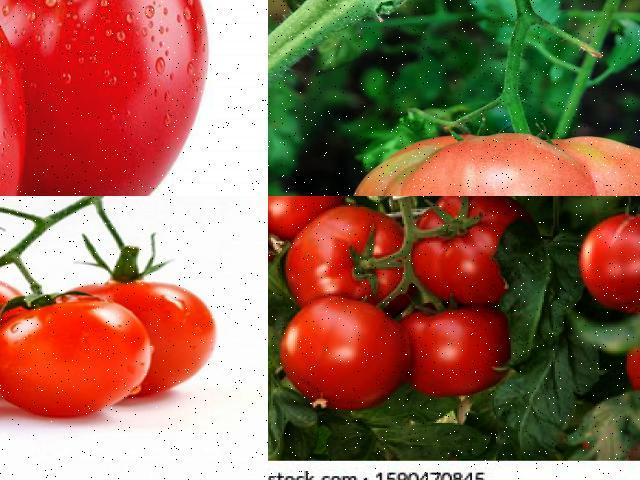tomato: (0, 0, 213, 195), (331, 113, 639, 195), (0, 299, 150, 423), (407, 196, 550, 312), (86, 280, 225, 398), (280, 201, 417, 318), (282, 294, 415, 414), (407, 303, 520, 399), (566, 207, 639, 316), (268, 196, 347, 233)
